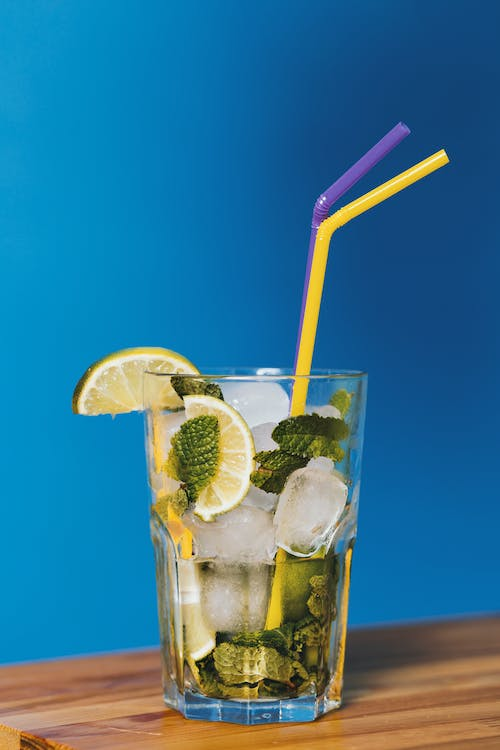alcohol: (140, 364, 371, 728)
